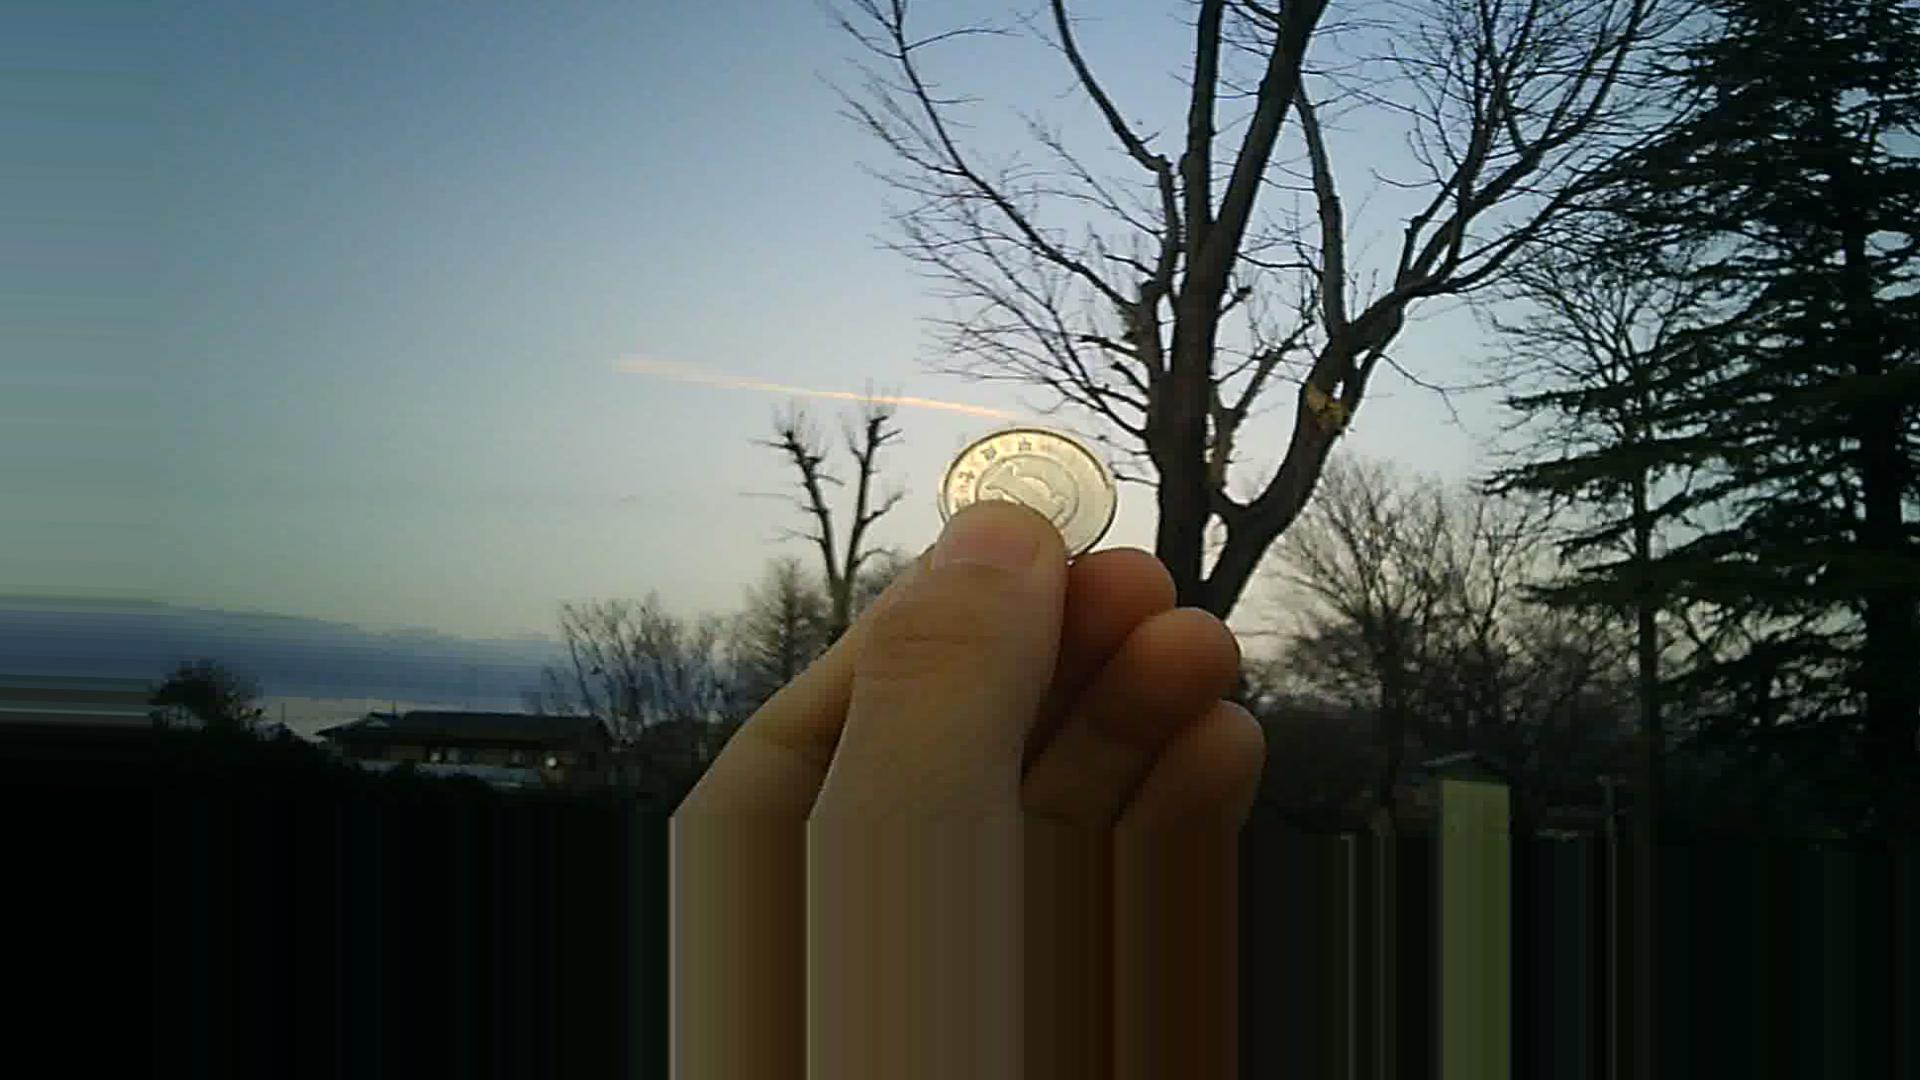1 Yen: (928, 429, 1118, 568)
